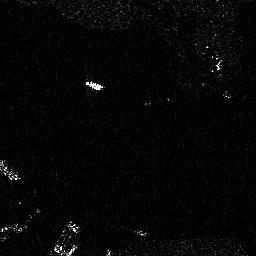ship: (85, 79, 106, 90)
